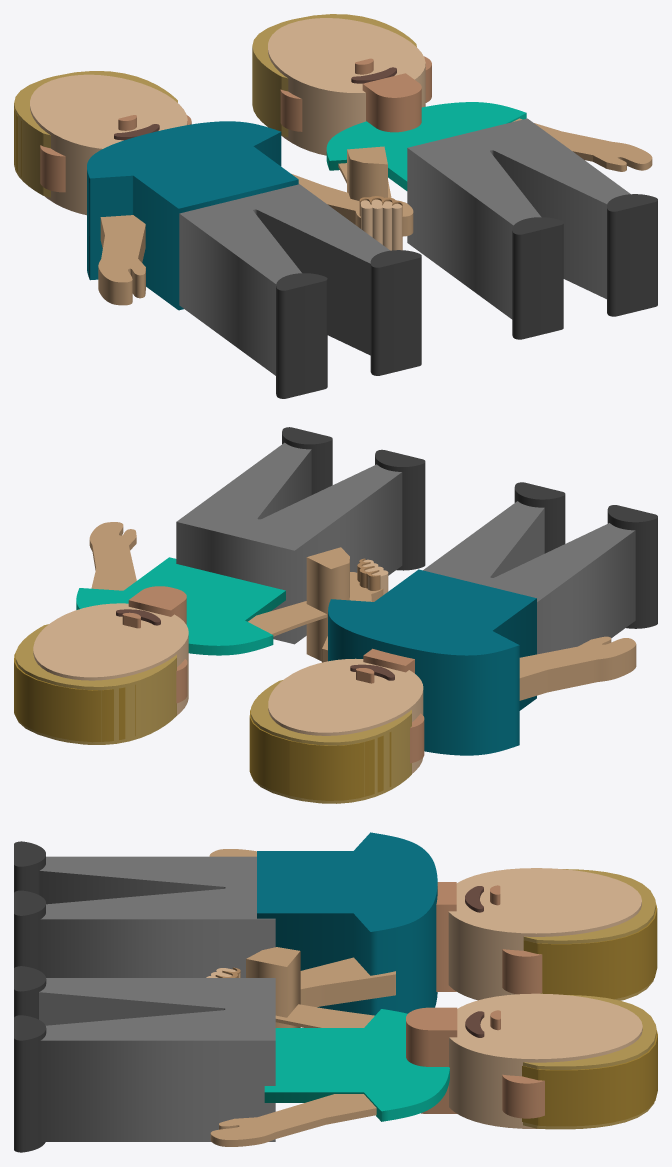
Rendered from emoji_u1f46c_1f3fc.glb.
3 renders of one model, top to bottom at view 1: azimuth 30°, elevation 25°; view 2: azimuth 150°, elevation 25°; view 3: azimuth 270°, elevation 25°, orthographic. The views are drawn at different scales.
Visible parts, largest first — view 1: emoji_u1f46c_1f3fc; view 2: emoji_u1f46c_1f3fc; view 3: emoji_u1f46c_1f3fc.
Boxes of the visible parts, x1=… form: emoji_u1f46c_1f3fc: x1=14, y1=14, x2=657, y2=398; emoji_u1f46c_1f3fc: x1=14, y1=427, x2=657, y2=803; emoji_u1f46c_1f3fc: x1=14, y1=832, x2=657, y2=1152.
Size of the model in its own units: 0.0346 by 0.0066 by 0.0334.
